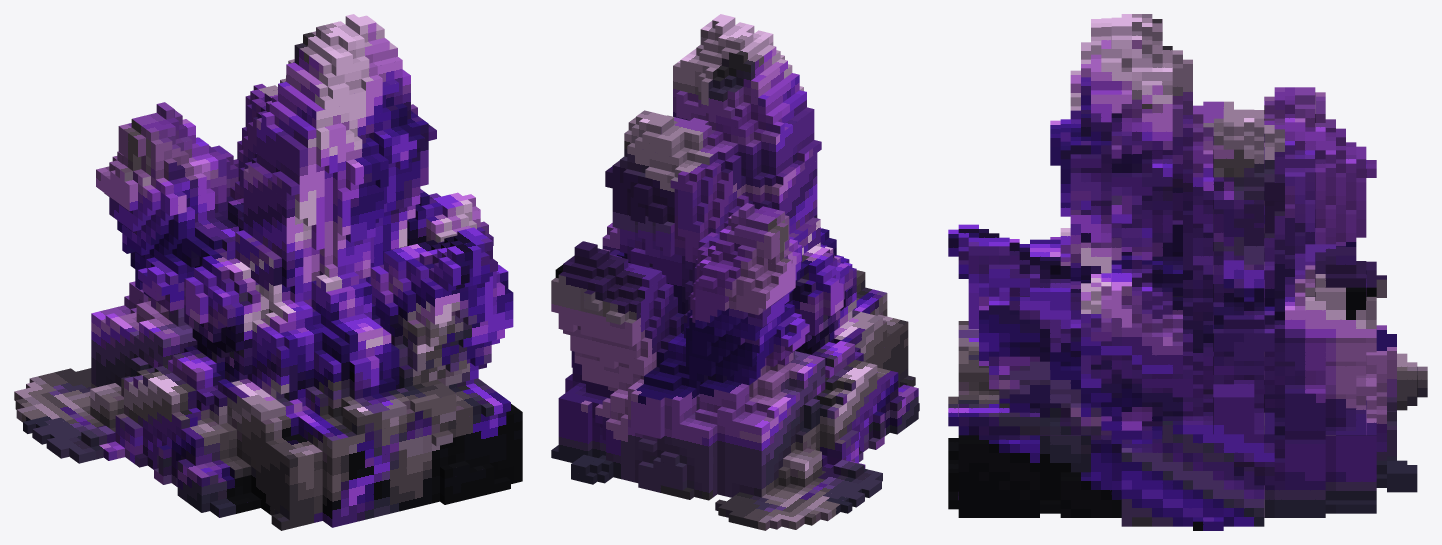
The model's file is mine-amethyst.glb.
3 views of the same model, side by side, from view 1: azimuth 30°, elevation 25°; view 2: azimuth 150°, elevation 25°; view 3: azimuth 270°, elevation 25° (orthographic). The views are drawn at different scales.
Parts seen in each view (by area): view 1: mine-amethyst_voxels; view 2: mine-amethyst_voxels; view 3: mine-amethyst_voxels.
Boxes of the visible parts, left/top/right/bottom form: mine-amethyst_voxels: left=14, top=14, right=522, bottom=530; mine-amethyst_voxels: left=551, top=14, right=919, bottom=530; mine-amethyst_voxels: left=948, top=14, right=1427, bottom=530.
Size of the model in its own units: 0.8776 by 1 by 0.9592.
1 material, 1 textured.
